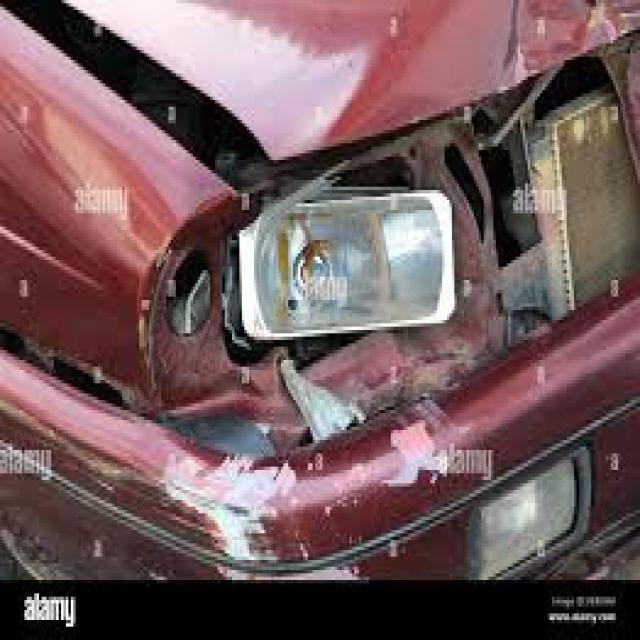moderate: (5, 5, 627, 511)
